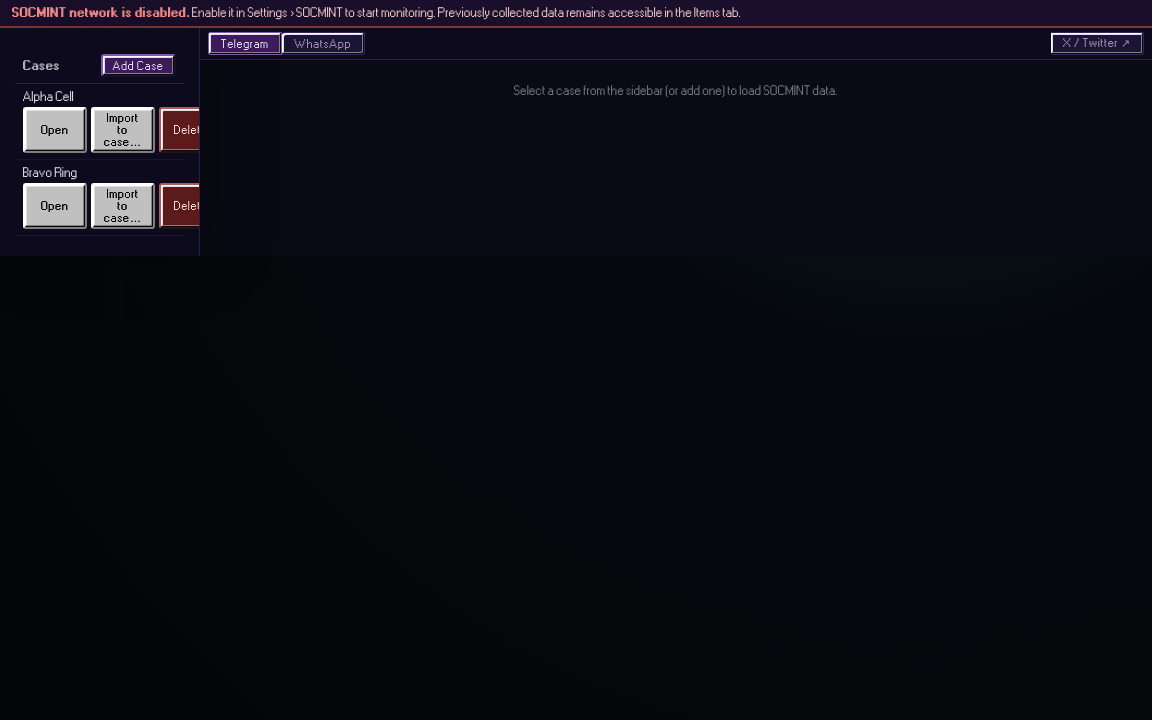
Test: SOCMINT Cases sidebar (T6) › does not create a case when the dialog is cancelled
Click the button "Add Case".
click(138, 66)  # box [101,54,176,77]
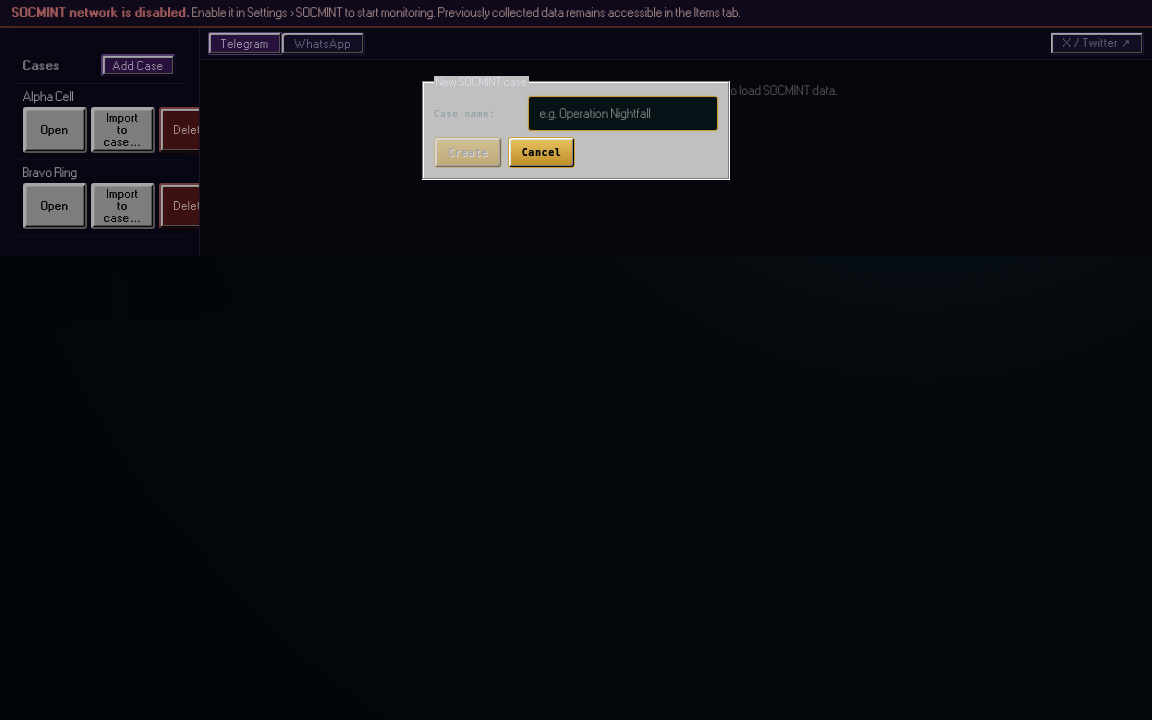
Click the button "Cancel".
click(542, 152)  # box [508,137,575,168]
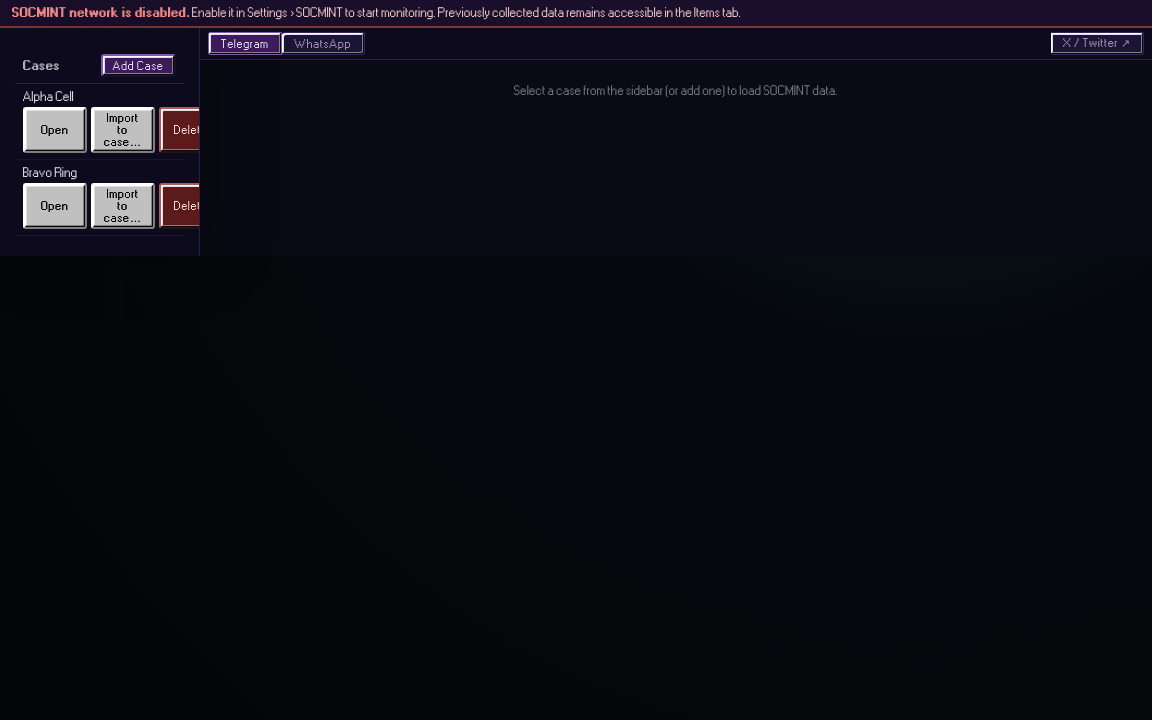
Check: the dialog is gone
